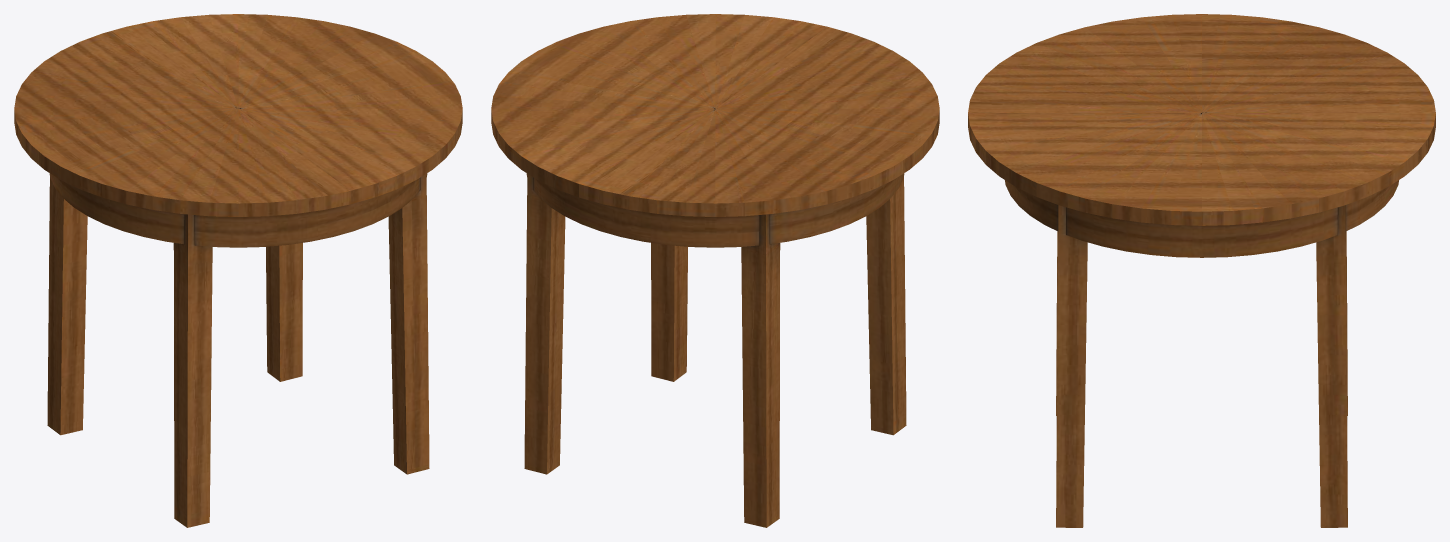
The model's file is table_round_web.glb.
3 views of the same model, side by side, from view 1: azimuth 30°, elevation 25°; view 2: azimuth 150°, elevation 25°; view 3: azimuth 270°, elevation 25° (orthographic). The views are drawn at different scales.
Visible parts, largest first — view 1: TableRound_Mesh; view 2: TableRound_Mesh; view 3: TableRound_Mesh.
Part boxes in pixels (x1,y1,x2,y2): TableRound_Mesh: [14, 14, 462, 527]; TableRound_Mesh: [491, 14, 939, 527]; TableRound_Mesh: [968, 14, 1435, 527].
Size of the model in its own units: 0.9 by 0.7506 by 0.9.
Materials: 1 (1 with a texture image).
